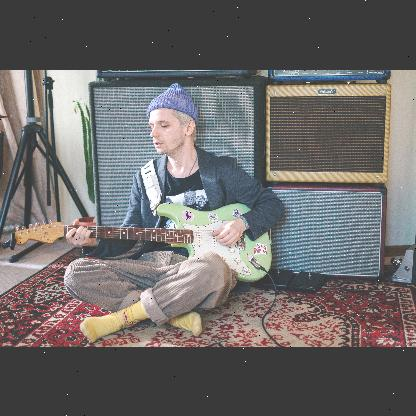guitar: (11, 200, 273, 286)
